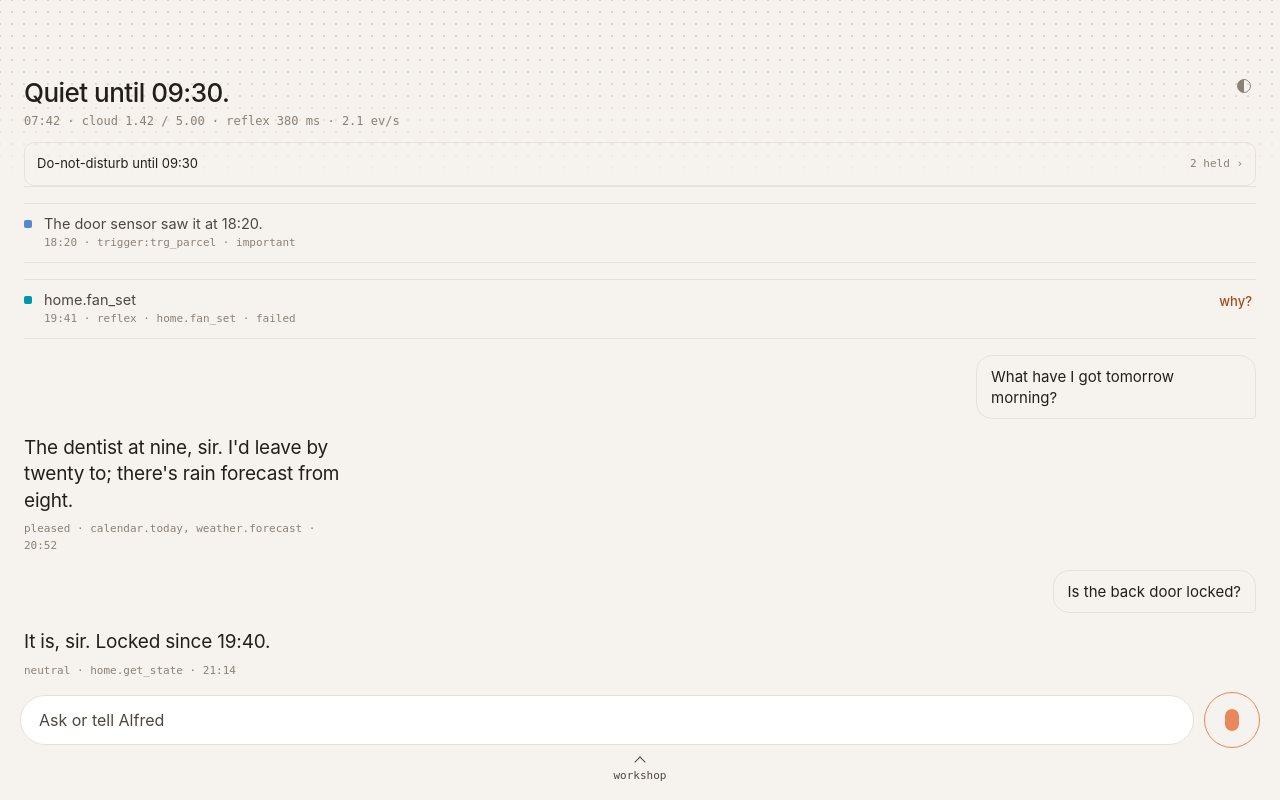
Test: App › says the house is quiet, counts what it held back, and shows it on a tap
The image size is (1280, 800).
(page scrolled)
Check: the heading "Quiet until 09:30." is shown, box [24,78,229,108]
Click the button "Do-not-disturb until 09:30 2 held ›".
click(118, 163)  # box [24,142,1256,186]
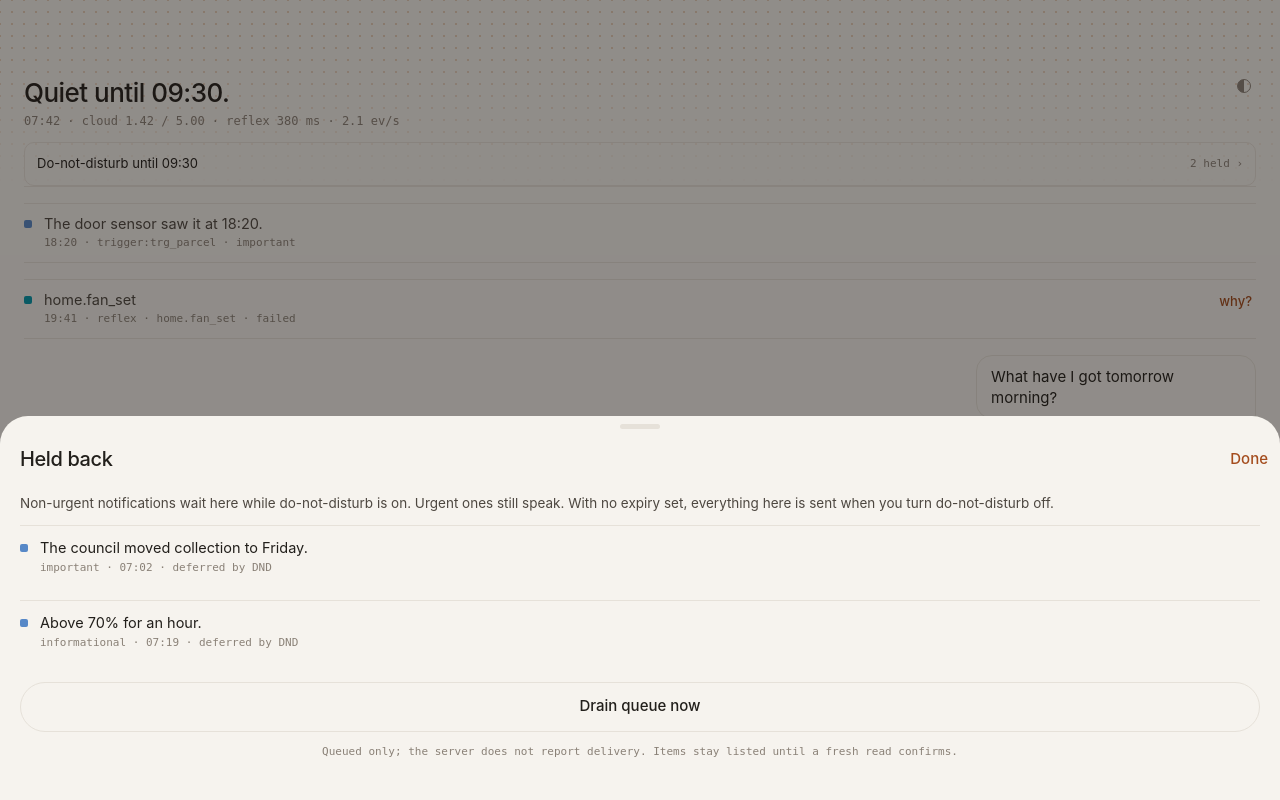
Check: the text "The council moved collection to Friday." is shown, box [40,539,308,556]
